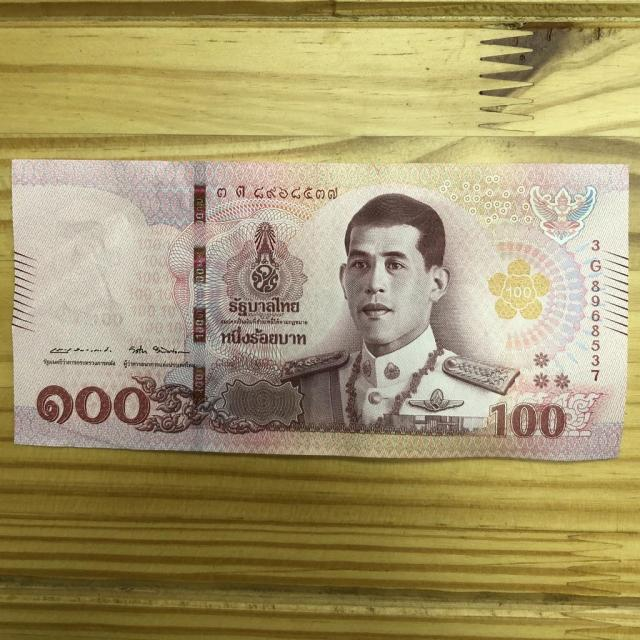THAI100: (12, 159, 629, 460)
